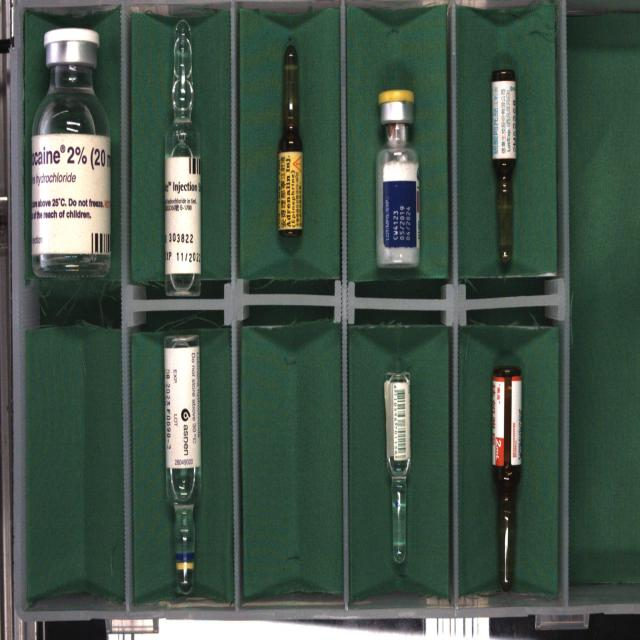Vials: (31, 28, 110, 277), (376, 89, 419, 267)
